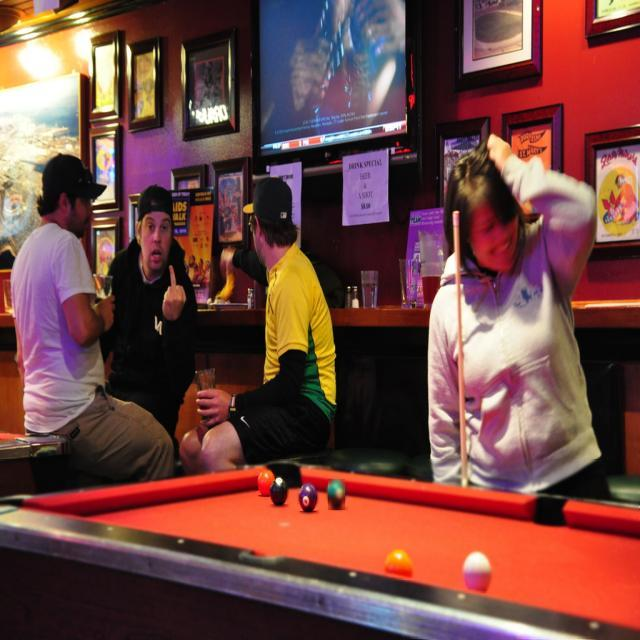Ball: (462, 549, 492, 593), (387, 550, 413, 580), (328, 479, 345, 510), (299, 484, 317, 512), (269, 477, 287, 505), (256, 471, 274, 498)
Billiard table: (0, 459, 639, 639)
